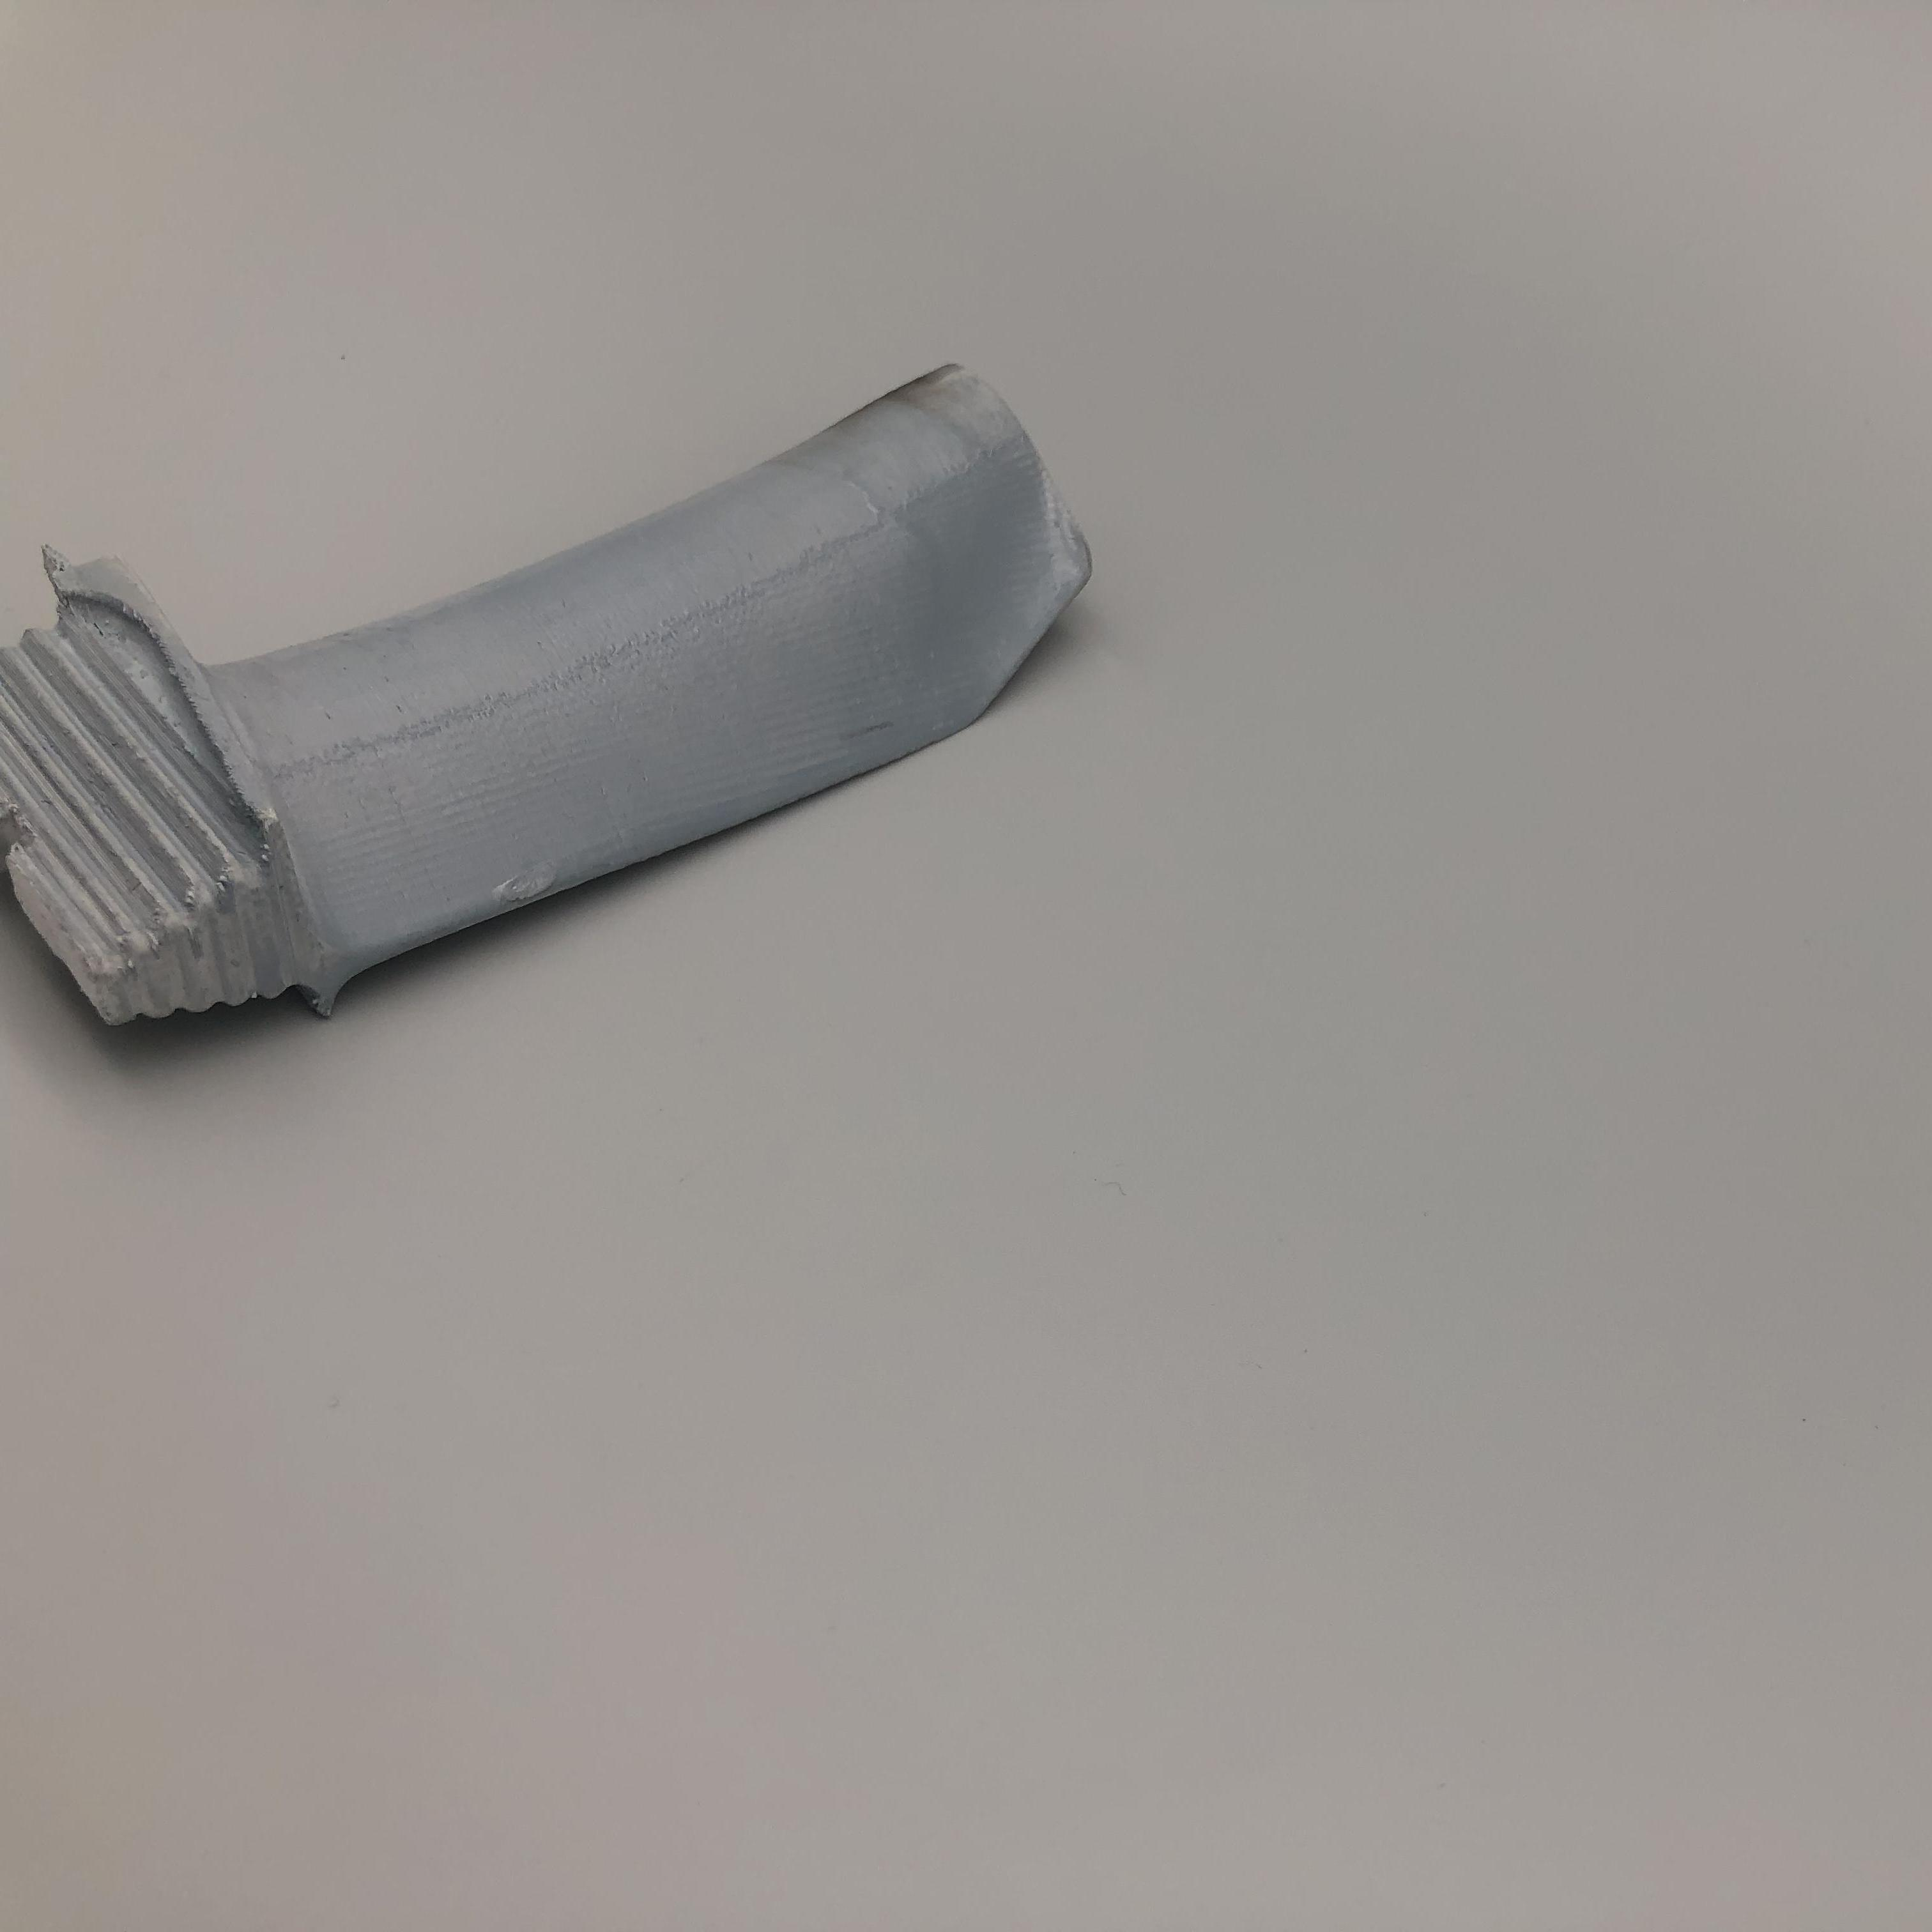ablation: (837, 373, 989, 446)
